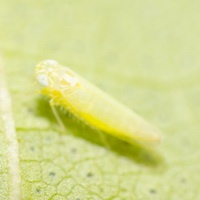insect: (35, 60, 162, 165)
